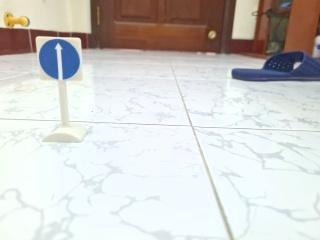straight: (35, 36, 82, 81)
